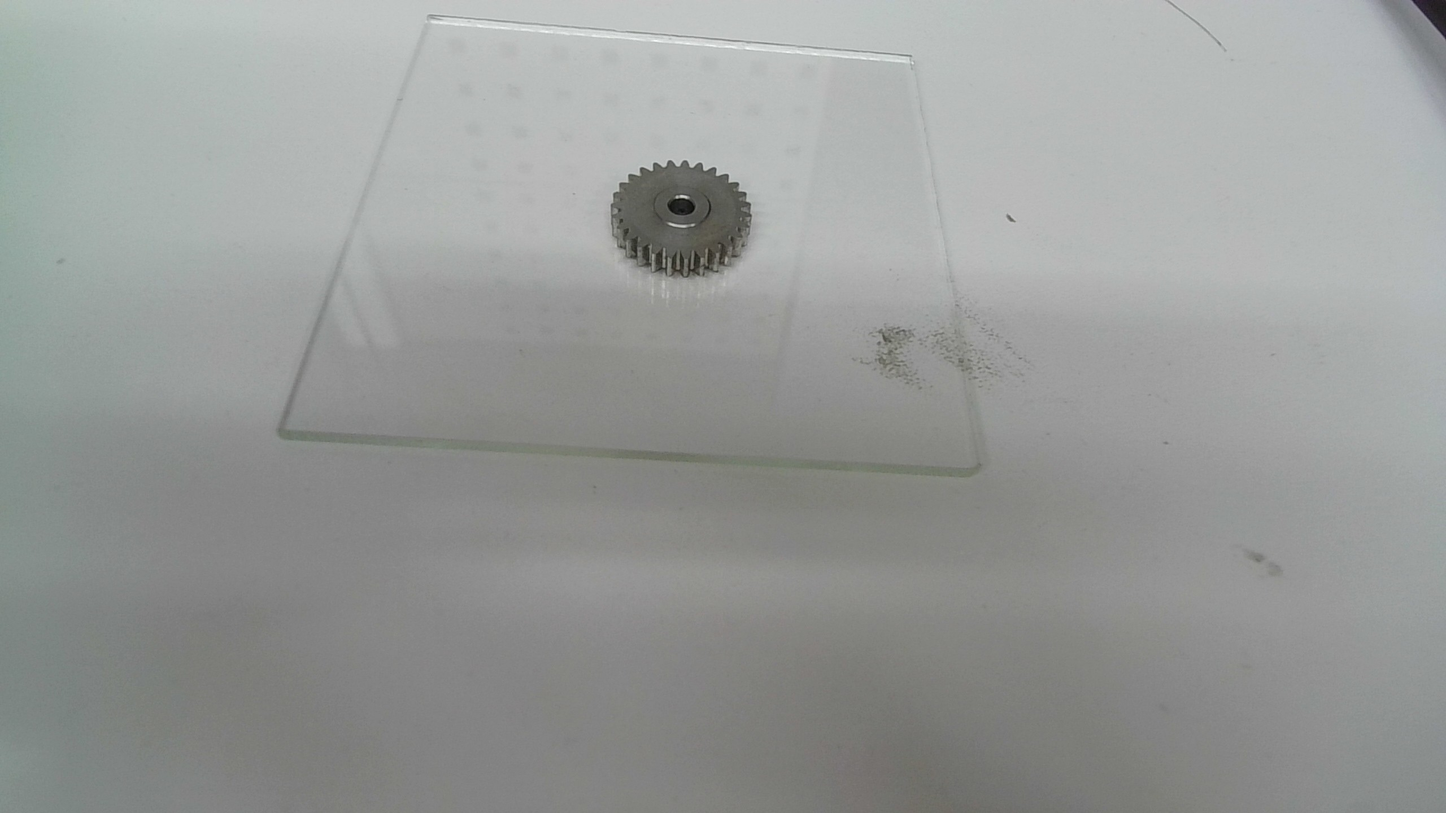gear: (607, 159, 754, 279)
